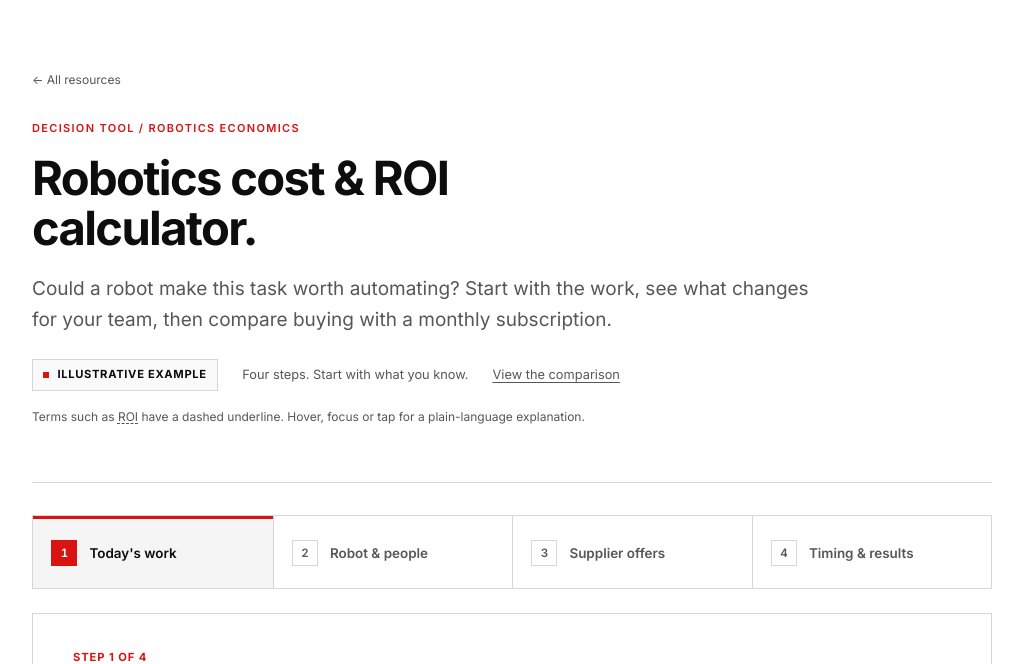
Test case: Guided robotics cost and ROI calculator › does not present zero upfront cost as positive payback during recurring losses
The image size is (1024, 664).
Click the button "2 Robot & people": click(393, 552) [274, 516, 512, 588]
(page scrolled)
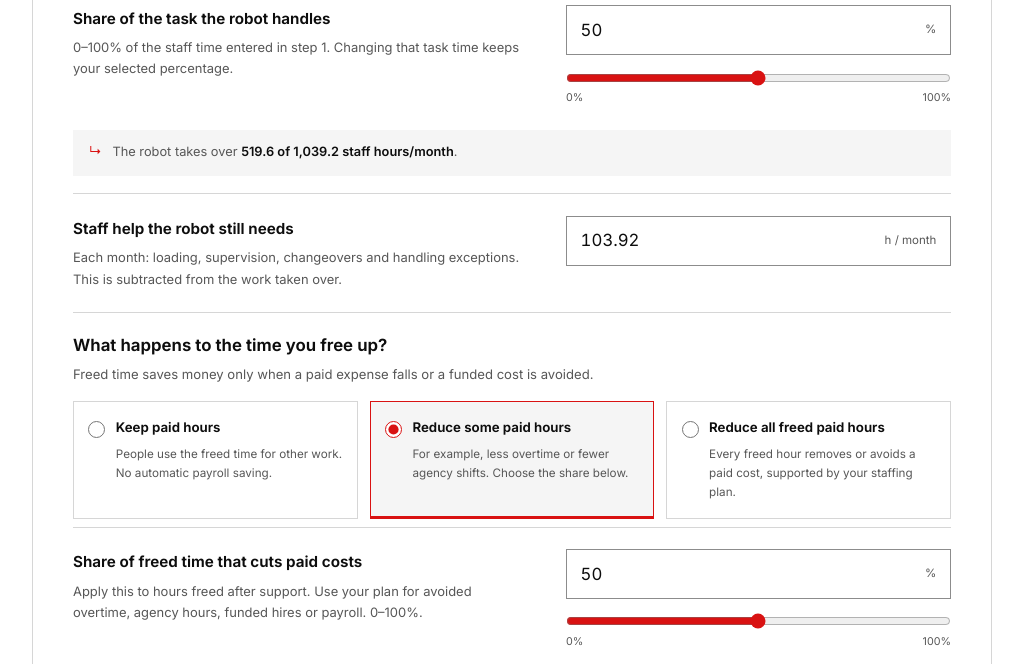
Click the radio button labelled "Keep paid hours": click(97, 429) [88, 421, 105, 438]
(page scrolled)
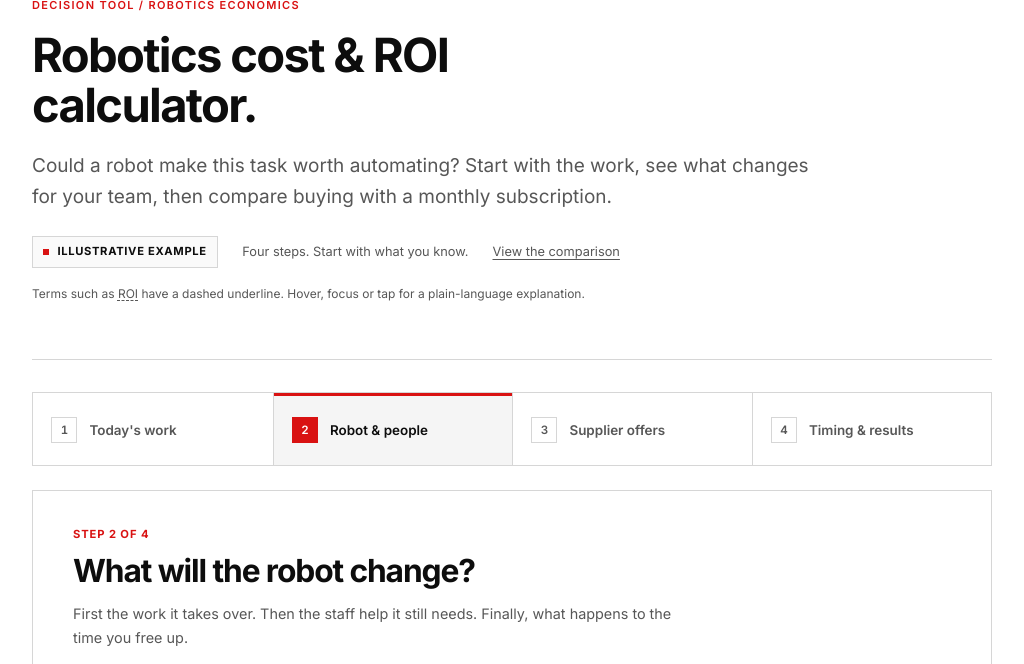
Click the button "3 Supplier offers": click(632, 429) [513, 393, 752, 465]
(page scrolled)
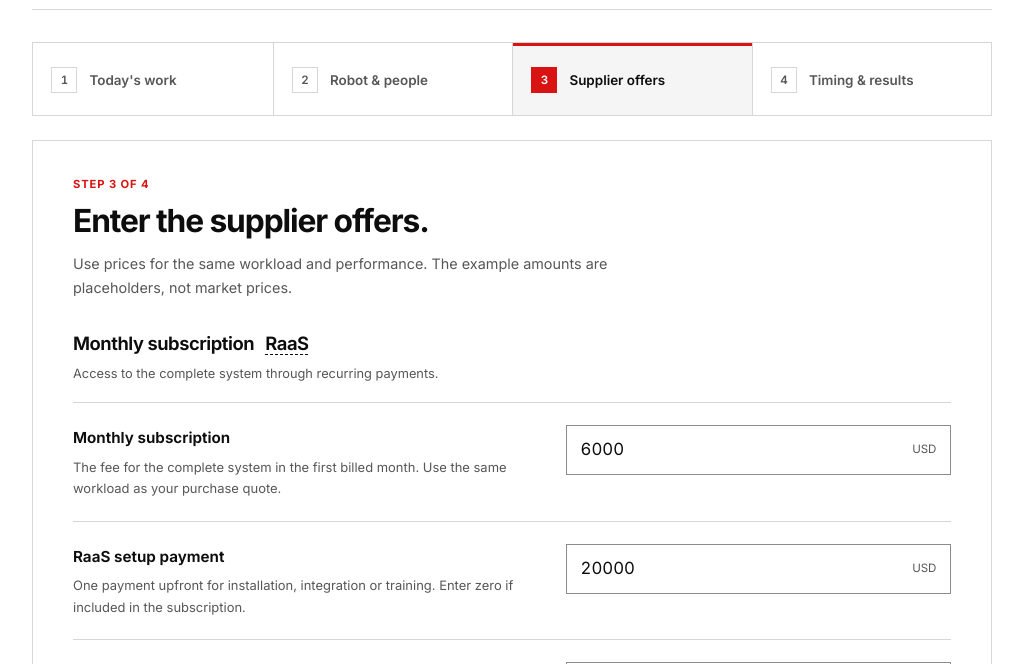
Replace the text in the field labelled "RaaS setup payment" with "0": (740, 569) [567, 545, 912, 592]
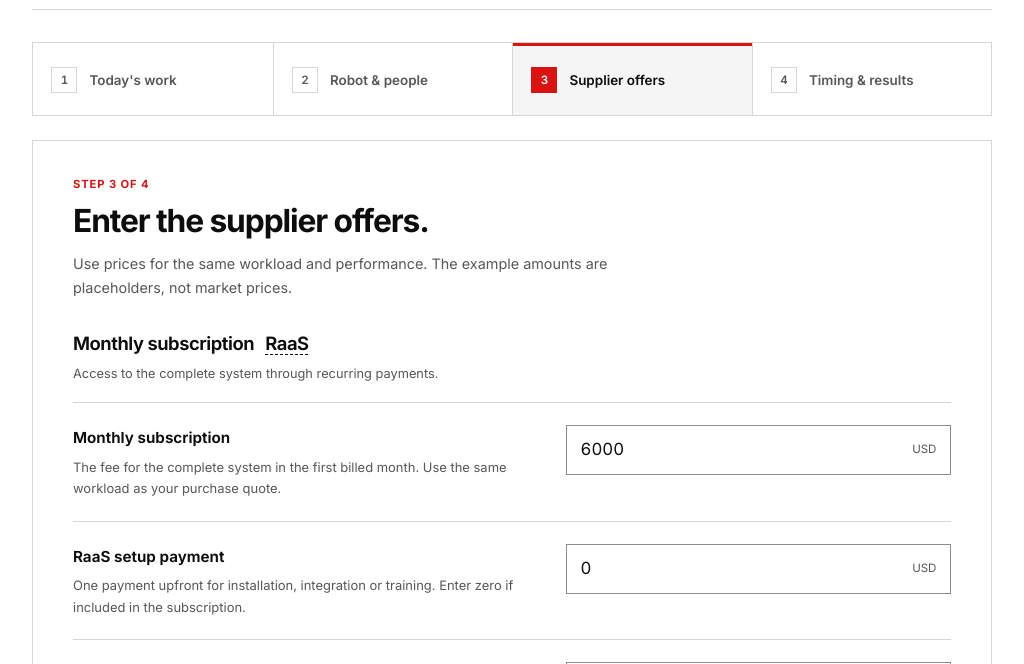
Click the button "4 Timing & results": click(872, 79) [752, 43, 991, 115]
(page scrolled)
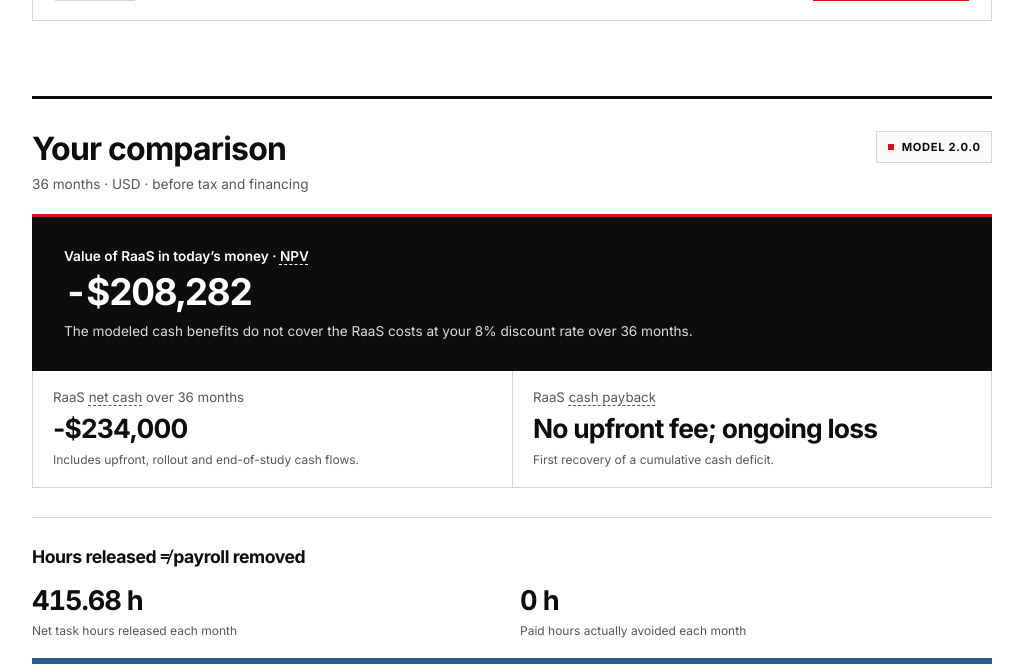
Now the element showing "RaaS cash payback" is shown, box [533, 388, 656, 407]
Now the text "No upfront fee; ongoing loss" is shown, box [533, 412, 877, 444]
Now the element showing "RaaS net cash over 36 months" is shown, box [53, 388, 244, 407]
